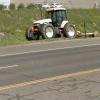Tractor: (22, 5, 81, 47)
